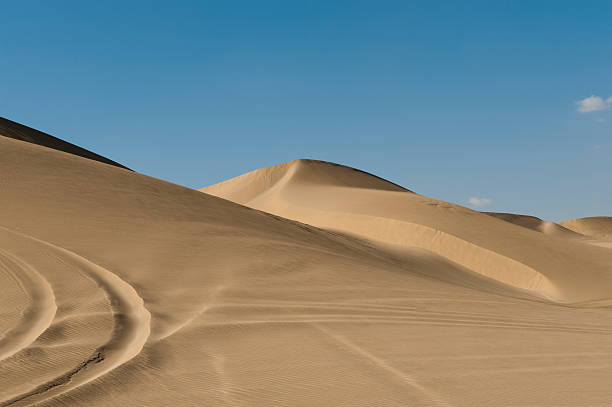vehicle_track: (0, 226, 150, 406), (0, 248, 56, 359)
